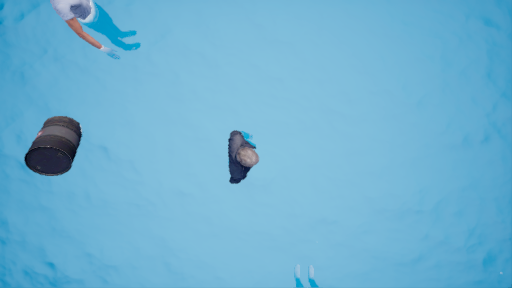person: (48, 1, 143, 69), (221, 125, 262, 188)
